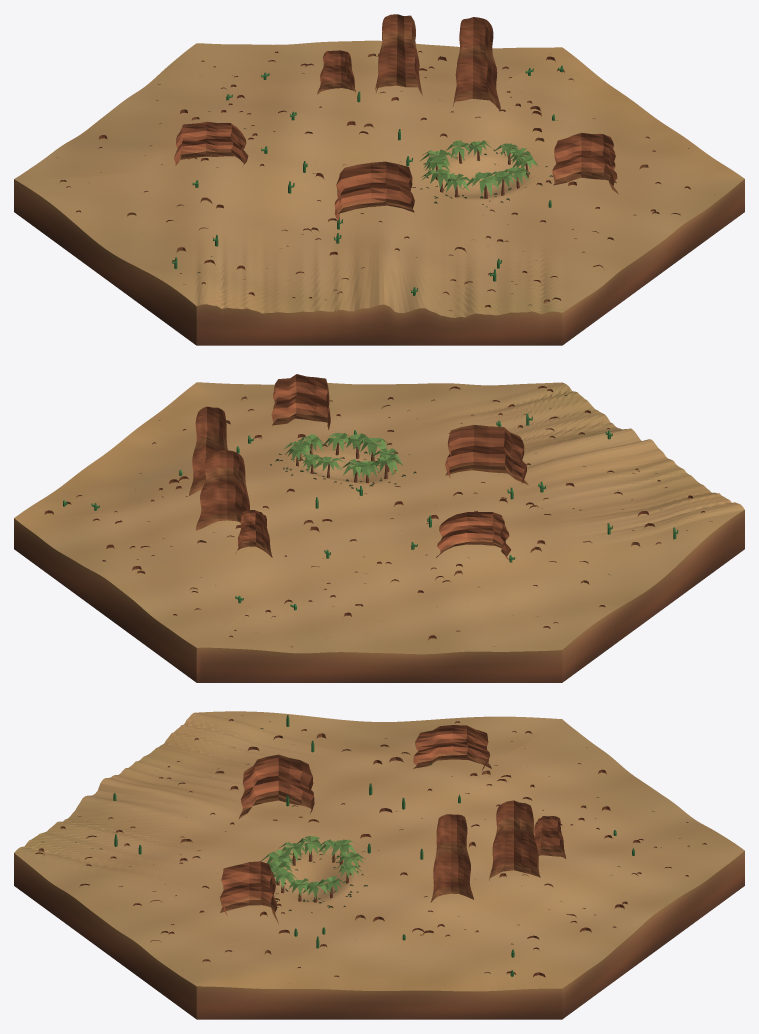
The picture shows the model from 3 angles, top to bottom: view 1: azimuth 30°, elevation 25°; view 2: azimuth 150°, elevation 25°; view 3: azimuth 270°, elevation 25°; orthographic projection.
Parts seen in each view (by area): view 1: terrain, hex_side_cut, sandstone_cliffs, palm_fronds, loose_rocks, cacti; view 2: terrain, hex_side_cut, sandstone_cliffs, palm_fronds, loose_rocks, cacti; view 3: terrain, hex_side_cut, sandstone_cliffs, palm_fronds, loose_rocks, cacti.
Part boxes in pixels (left/top/right/bottom): terrain: left=14, top=40, right=744, bottom=317; hex_side_cut: left=14, top=179, right=744, bottom=345; sandstone_cliffs: left=174, top=14, right=618, bottom=222; palm_fronds: left=419, top=140, right=538, bottom=196; loose_rocks: left=57, top=51, right=690, bottom=311; cacti: left=172, top=65, right=563, bottom=295; terrain: left=14, top=382, right=744, bottom=654; hex_side_cut: left=14, top=510, right=744, bottom=682; sandstone_cliffs: left=189, top=374, right=528, bottom=562; palm_fronds: left=283, top=433, right=402, bottom=477; loose_rocks: left=44, top=386, right=704, bottom=647; cacti: left=63, top=413, right=678, bottom=610; terrain: left=14, top=711, right=744, bottom=991; hex_side_cut: left=14, top=851, right=744, bottom=1019; sandstone_cliffs: left=220, top=725, right=566, bottom=924; palm_fronds: left=261, top=836, right=365, bottom=899; loose_rocks: left=35, top=719, right=706, bottom=977; cacti: left=113, top=715, right=634, bottom=976.
Size of the model in its own units: 4330 by 989 by 5000.
